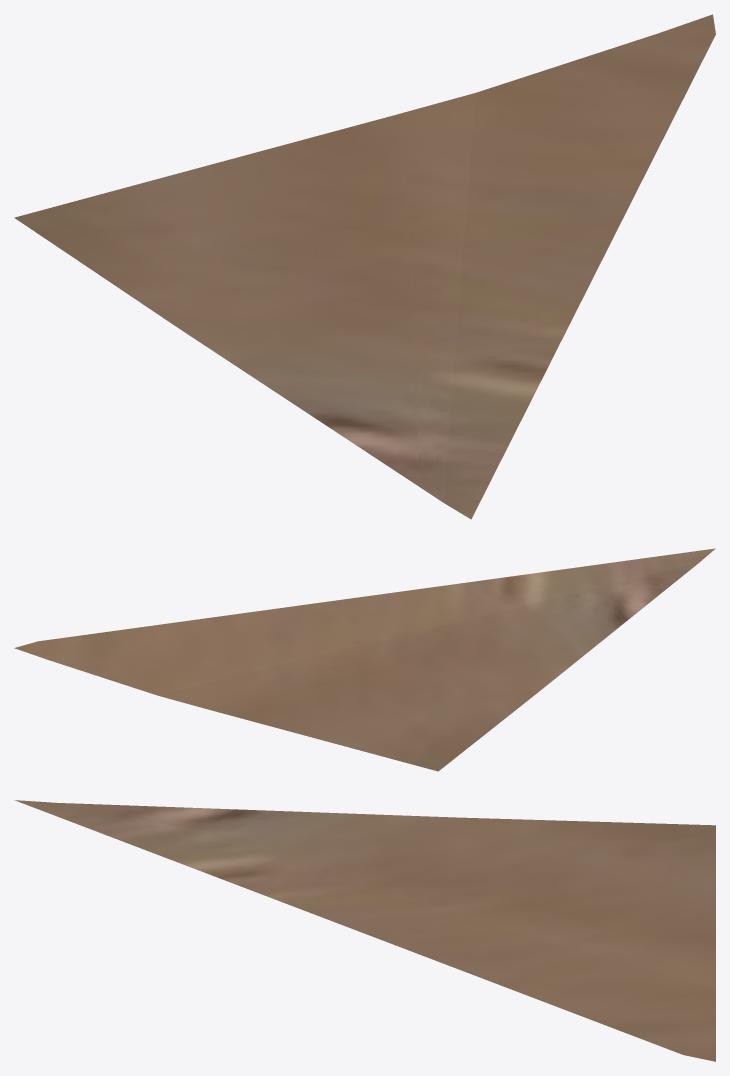
3 renders of one model, top to bottom at view 1: azimuth 30°, elevation 25°; view 2: azimuth 150°, elevation 25°; view 3: azimuth 270°, elevation 25°, orthographic. The views are drawn at different scales.
Size of the model in its own units: 0.3363 by 0.0151 by 0.3811.
Materials: 1 (1 with a texture image).
